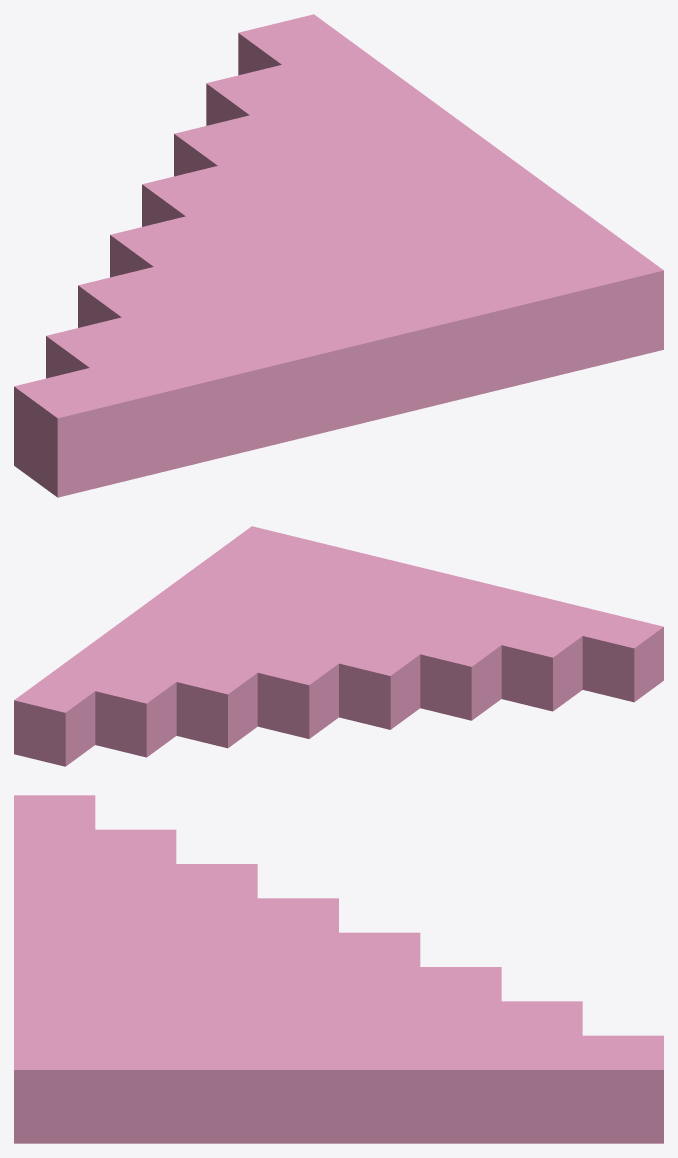
The model's file is grass_cornor_medium.obj.
3 views of the same model, one above another, from view 1: azimuth 30°, elevation 25°; view 2: azimuth 150°, elevation 25°; view 3: azimuth 270°, elevation 25° (orthographic). The views are drawn at different scales.
Bounding box in the file's own units: 0.8 × 0.1 × 0.8.
Materials: 1 (1 with a texture image).
